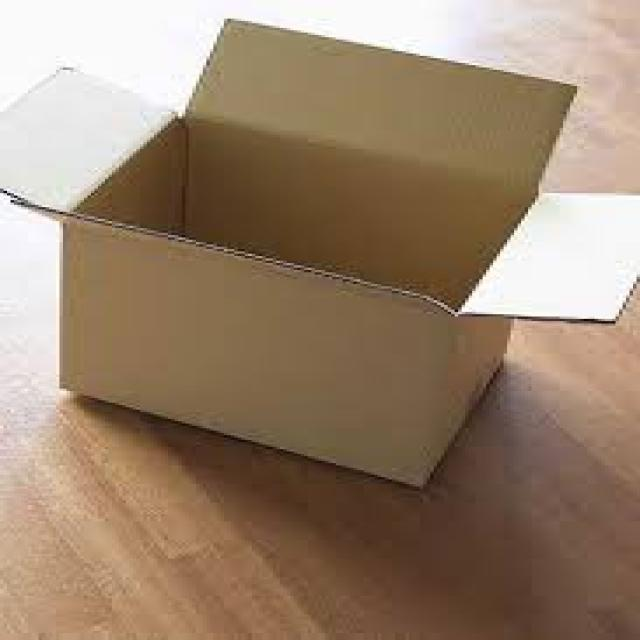Cardboard: (0, 20, 640, 482)
